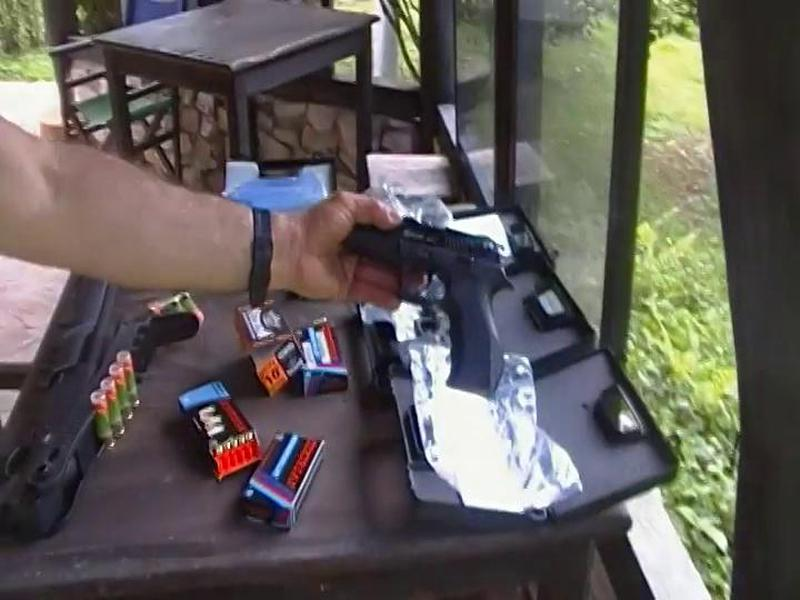Pistola: (338, 195, 524, 412)
